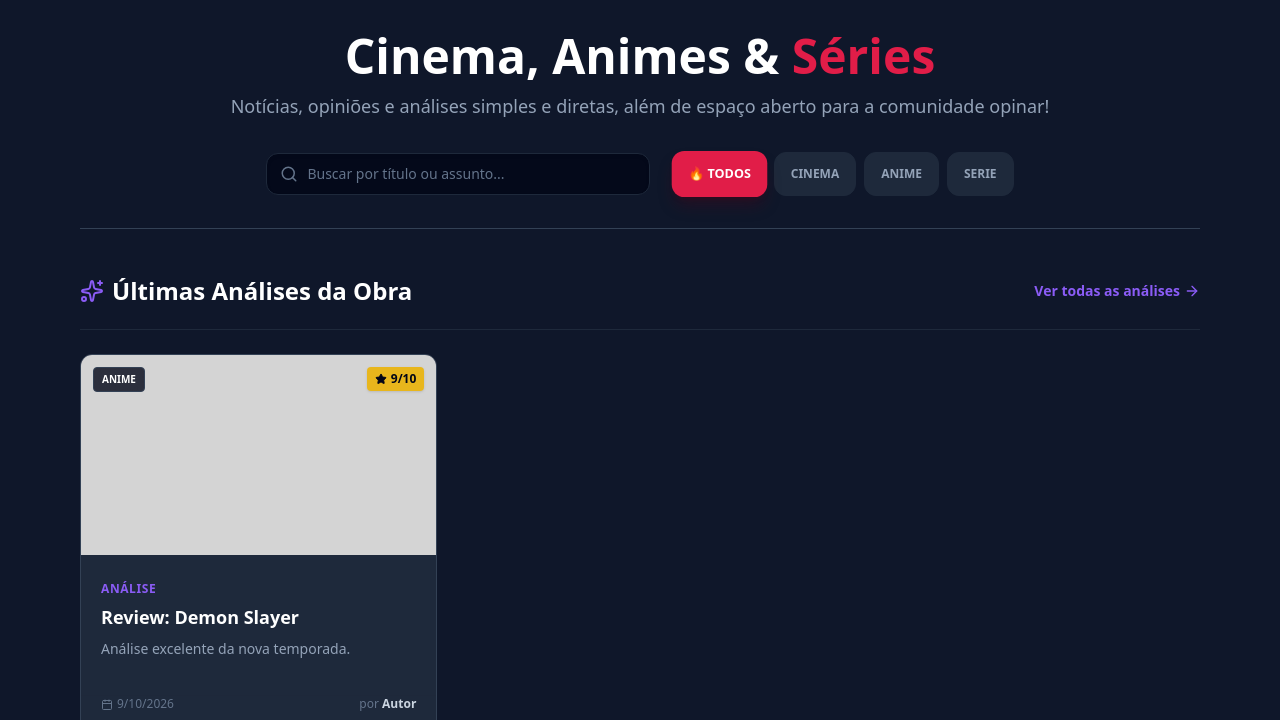
Página Home › deve listar artigos e filtrar por categoria corretamente
Expected: the heading "Review: Demon Slayer" is shown, left=101, top=605, right=299, bottom=629
# Clica no botão de filtro "CINEMA"
Click the button "cinema": (815, 174) left=774, top=152, right=856, bottom=196
(page scrolled)
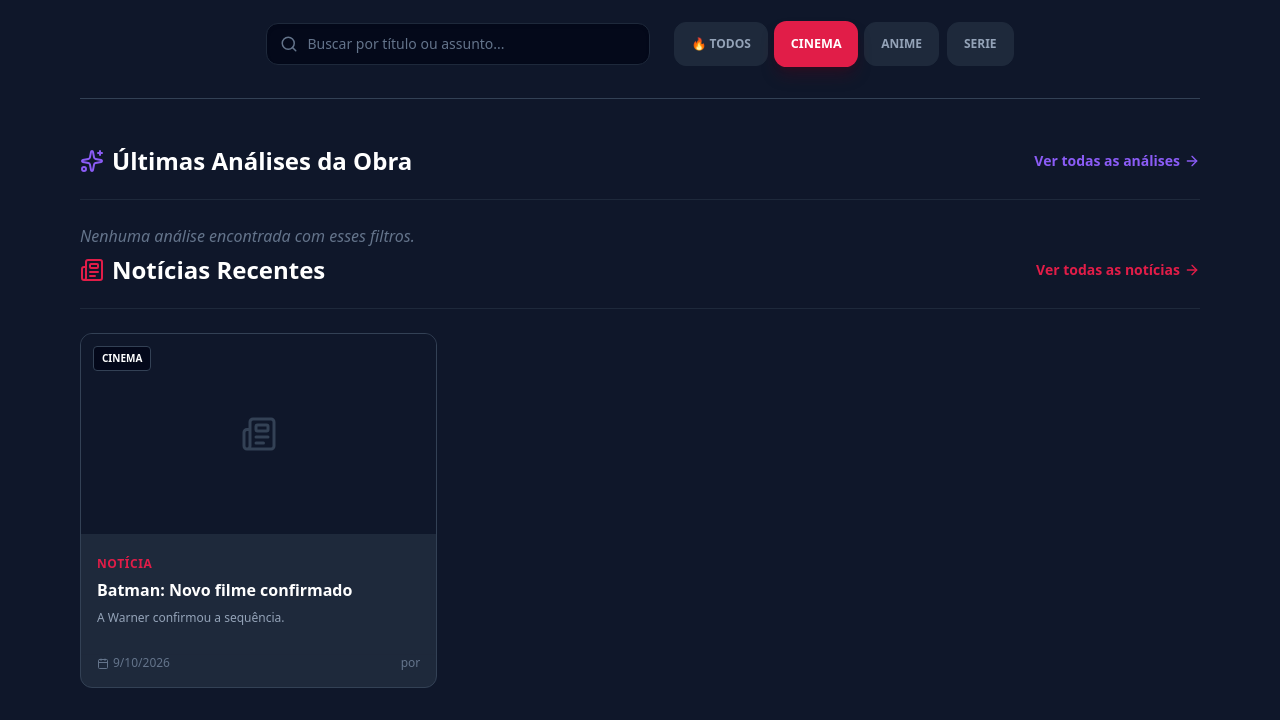
Expected: the heading "Batman: Novo filme confirmado" is shown, left=97, top=579, right=352, bottom=601
Expected: the link "Review: Demon Slayer" is gone
